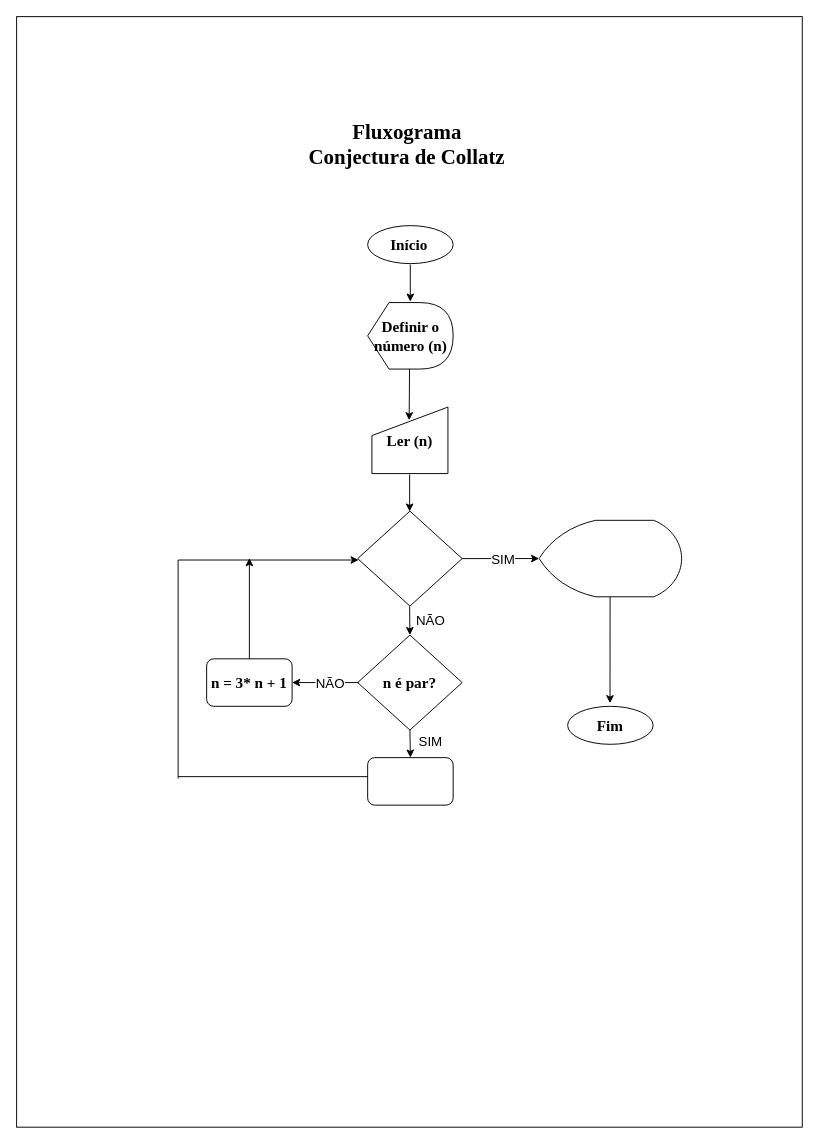
Image size: 819x1144. Some labels were removed from this diagram. The shapes that lost their labels are listed below. From the top down, each one's centre as x and y in pixels, then its label:
At point (409, 558): "n == 1?".
At point (610, 558): "Você chegou ao número um com CONT passos".
At point (410, 781): "n = n/ 2".
